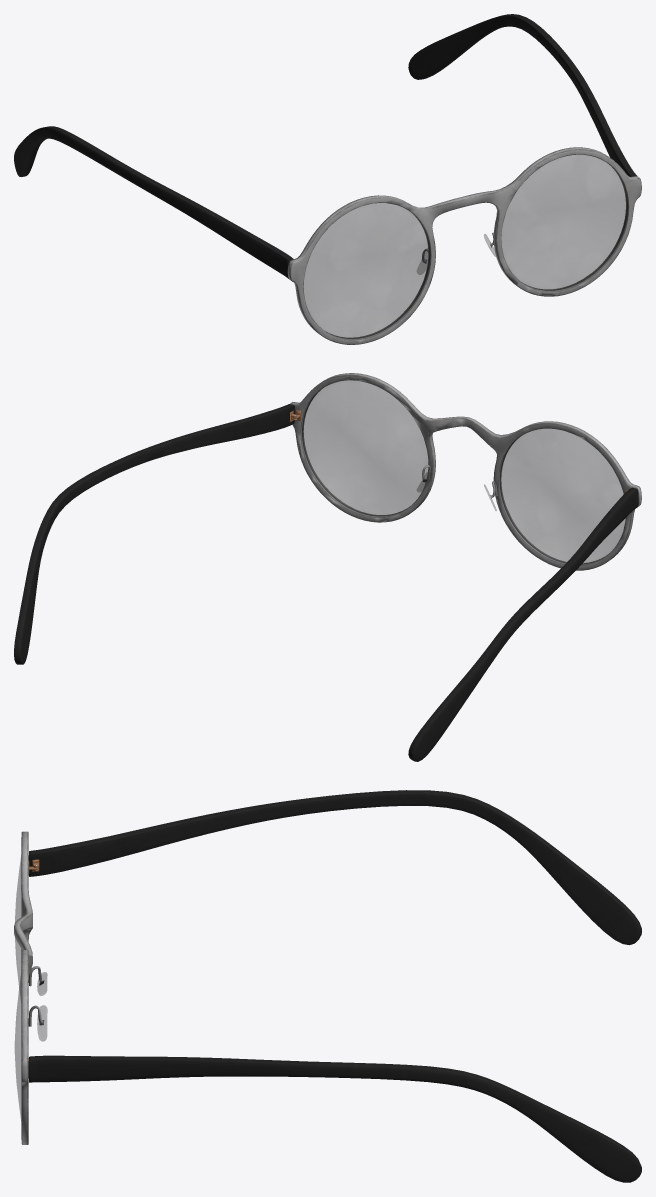
The model's file is round_spectacles.glb.
3 renders of one model, top to bottom at view 1: azimuth 30°, elevation 25°; view 2: azimuth 150°, elevation 25°; view 3: azimuth 270°, elevation 25°, orthographic. The views are drawn at different scales.
Visible parts, largest first — view 1: round_spectacles; view 2: round_spectacles; view 3: round_spectacles.
Part boxes in pixels (x1,y1,x2,y2): round_spectacles: (14,14,641,344); round_spectacles: (14,373,641,761); round_spectacles: (14,790,641,1182).
Size of the model in its own units: 0.1578 by 0.0463 by 0.149.
Materials: 2 (2 with a texture image).
